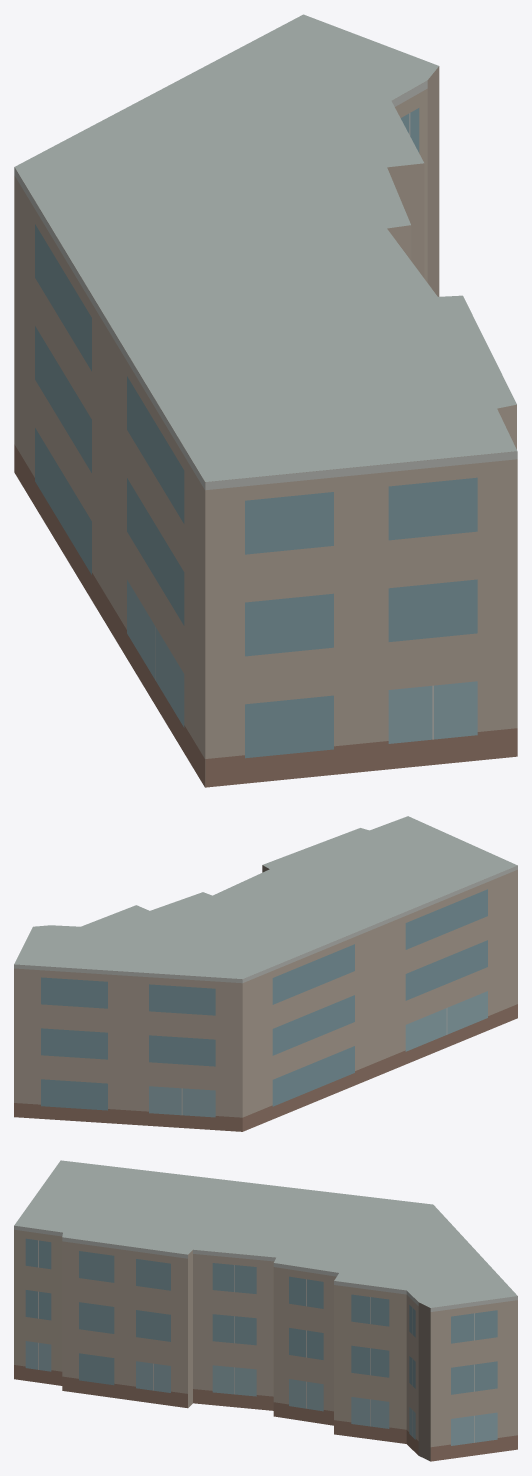
File: survey-upis-32600584.glb
The picture shows the model from 3 angles, top to bottom: view 1: azimuth 30°, elevation 25°; view 2: azimuth 150°, elevation 25°; view 3: azimuth 270°, elevation 25°; orthographic projection. The views are drawn at different scales.
Visible parts, largest first — view 1: survey-upis-32600584.tmp; view 2: survey-upis-32600584.tmp; view 3: survey-upis-32600584.tmp.
Part boxes in pixels (x1,y1,x2,y2): survey-upis-32600584.tmp: (14,14,517,787); survey-upis-32600584.tmp: (14,816,517,1131); survey-upis-32600584.tmp: (14,1160,517,1461).
Size of the model in its own units: 18.89 by 9.15 by 27.22.
